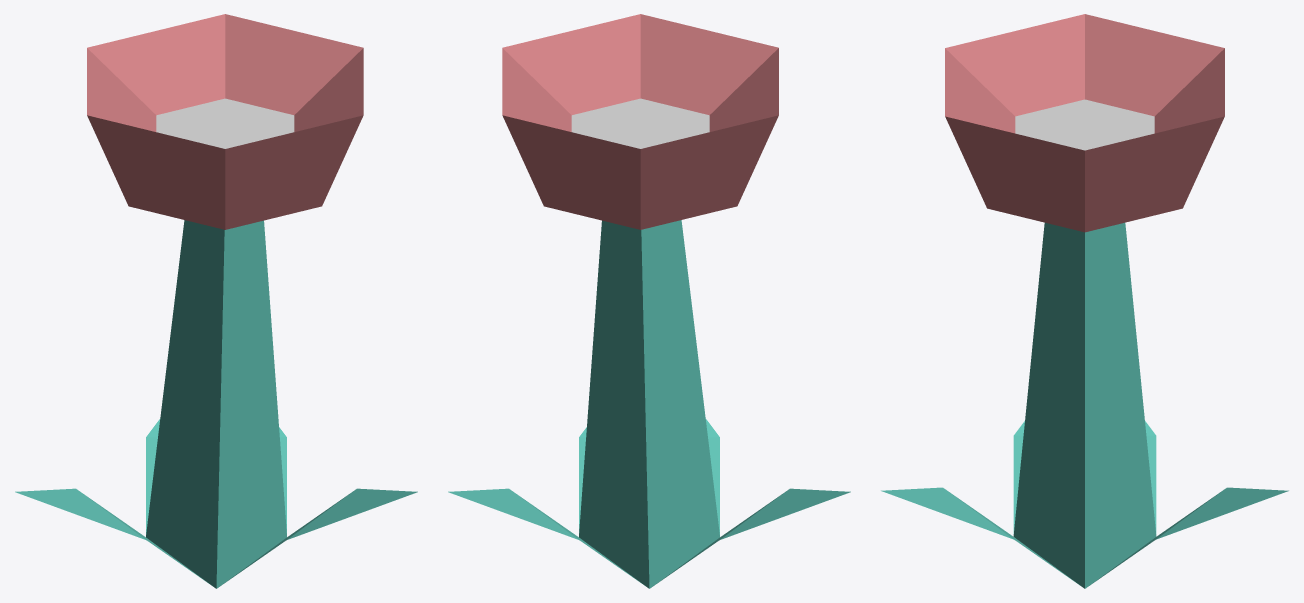
File: flower_redC.glb
The picture shows the model from 3 angles, left to right: view 1: azimuth 30°, elevation 25°; view 2: azimuth 150°, elevation 25°; view 3: azimuth 270°, elevation 25°; orthographic projection.
Parts seen in each view (by area): view 1: flower_redC; view 2: flower_redC; view 3: flower_redC.
Boxes of the visible parts, x1,y1,x2,y2 form: flower_redC: (15,14,417,588); flower_redC: (448,14,850,588); flower_redC: (881,14,1288,588).
Bounding box in the file's own units: 0.1806 × 0.2325 × 0.1811.
